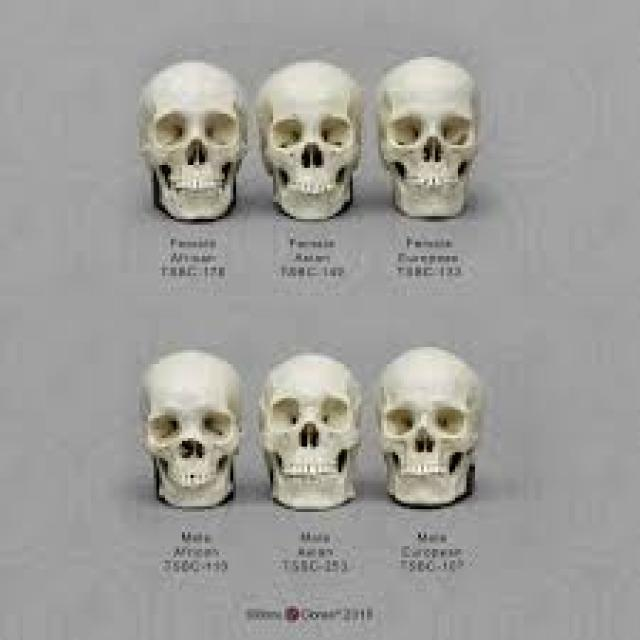skull: (136, 352, 252, 519)
